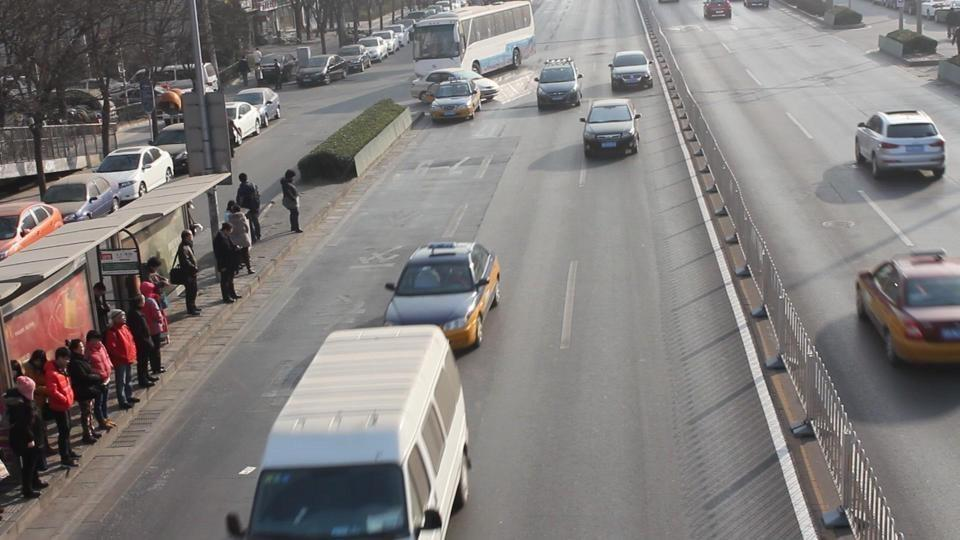car: (383, 241, 502, 354), (854, 249, 960, 367), (854, 108, 947, 180), (156, 99, 248, 164), (94, 146, 175, 203), (153, 121, 229, 176), (40, 171, 118, 223), (0, 201, 64, 262), (580, 97, 642, 157), (427, 72, 487, 120), (535, 59, 584, 110), (234, 87, 282, 127), (294, 54, 350, 88), (609, 50, 653, 93), (153, 126, 190, 177), (225, 100, 261, 141), (336, 44, 374, 72), (357, 34, 393, 59), (703, 0, 732, 20), (744, 0, 770, 10)
